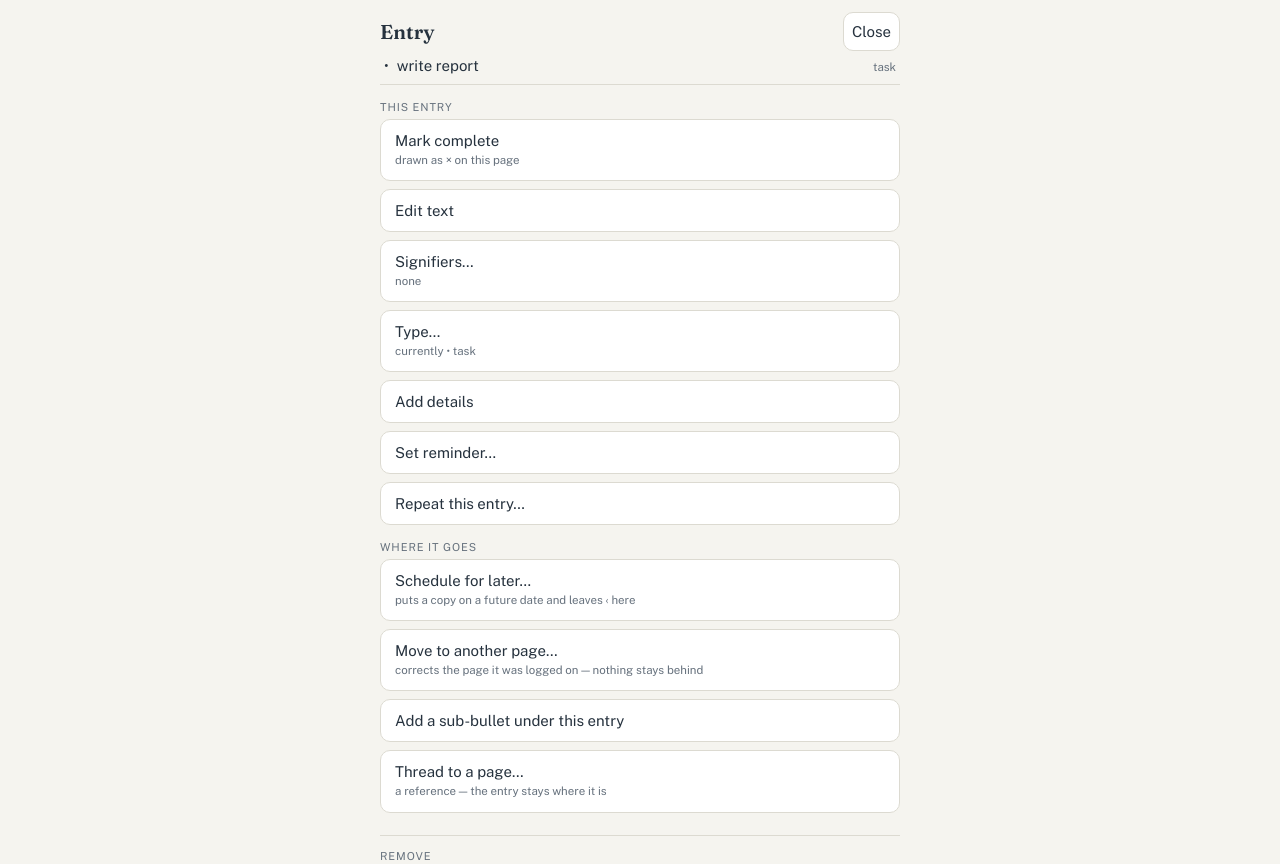
Test: actions mode › threading is one line in the actions list, whatever the collection count
Check: the button "Collection 3" is not shown
Click the button "Thread to a page… a reference — the entry stays where it is": (459, 772) [380, 750, 900, 813]
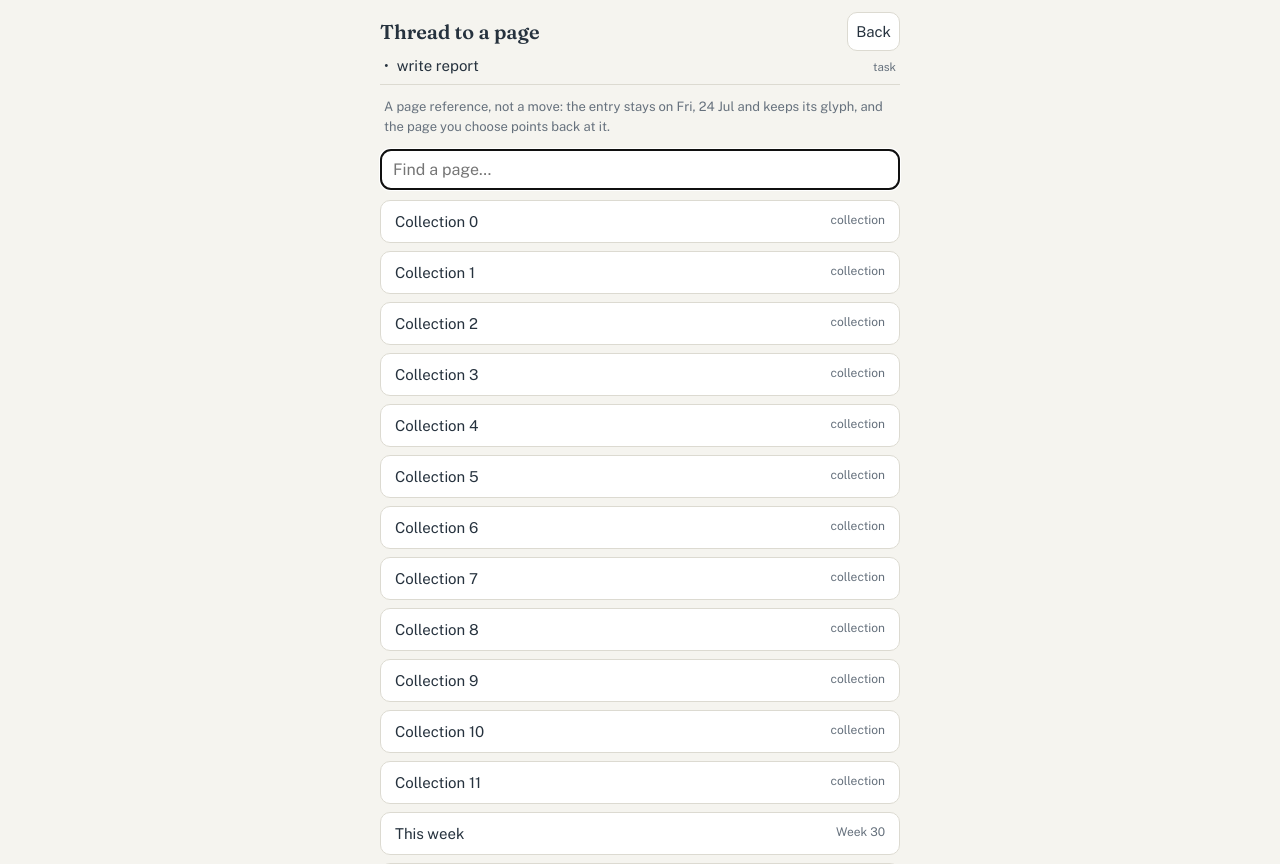
Check: the button with aria-label "Thread to Collection 3" is shown, box [380, 353, 900, 396]
